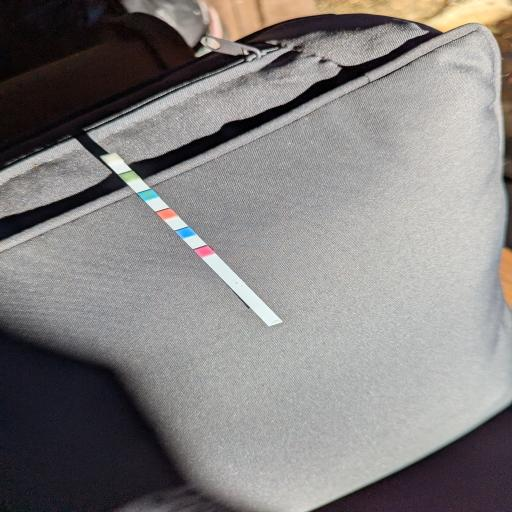strip: (100, 153, 284, 328)
